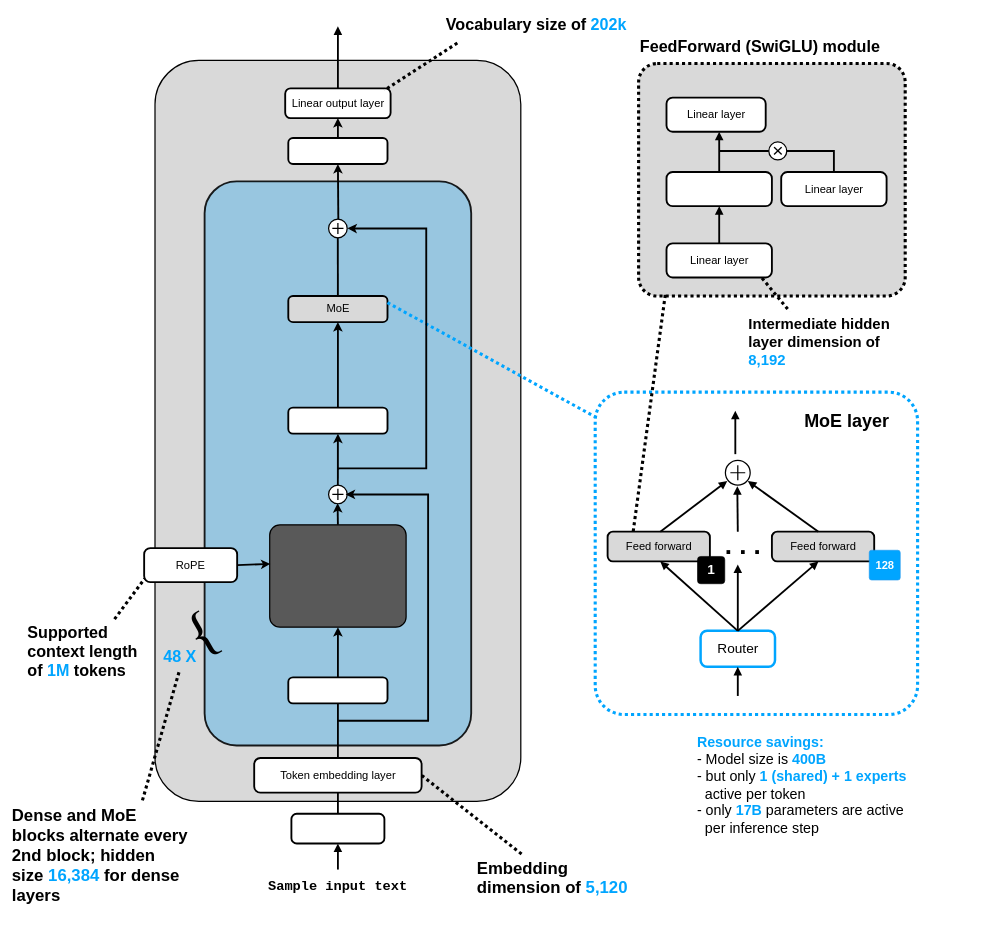
The diagram is 990 pixels wide and 929 high, and some of its shapes have lost their labels. The shapes that lost their labels are listed below. From the top down, each one's box as (x1, y1, x2, y2) in pixels, then its label:
(287, 137, 388, 165): Final RMSNorm
(665, 171, 773, 207): SiLU activation
(287, 406, 388, 434): RMSNorm 2
(269, 524, 406, 627): Grouped-query Attention
(287, 676, 388, 704): RMSNorm 1
(290, 813, 385, 844): Tokenized text
